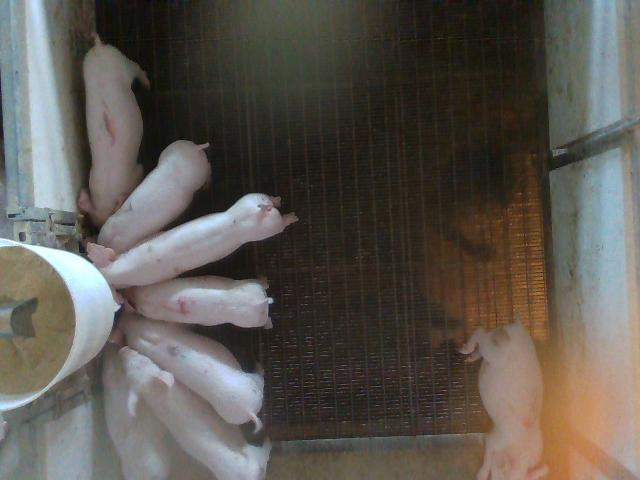pig-1: (79, 35, 149, 226)
pig-3: (460, 320, 548, 478)
pig-4: (124, 278, 272, 328)
